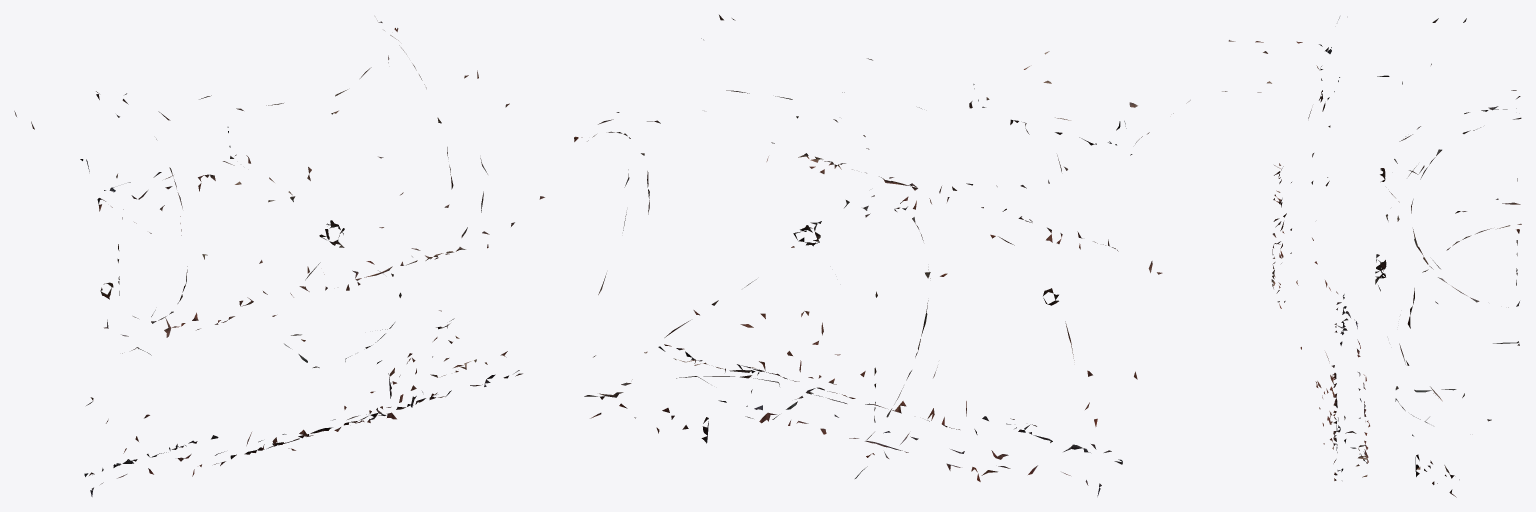
The picture shows the model from 3 angles, left to right: view 1: azimuth 30°, elevation 25°; view 2: azimuth 150°, elevation 25°; view 3: azimuth 270°, elevation 25°; orthographic projection. The views are drawn at different scales.
Size of the model in its own units: 12.37 by 9.7 by 8.4.
1 material, 1 textured.
